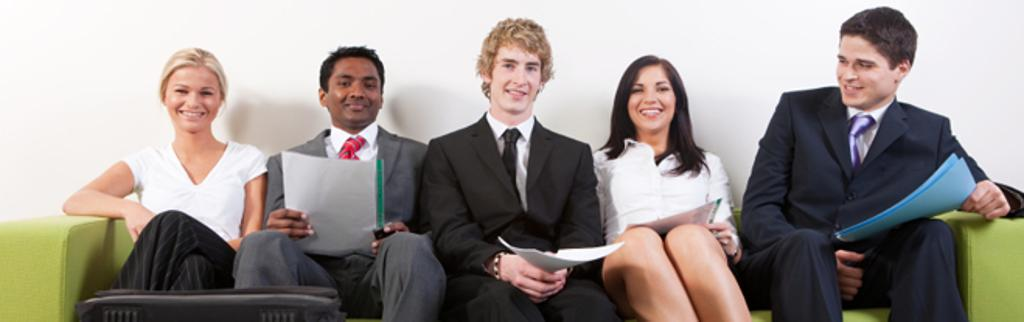face: (836, 36, 892, 105), (491, 41, 540, 111), (166, 69, 220, 132), (328, 57, 380, 122), (627, 70, 674, 130)
